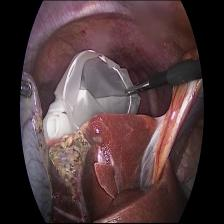Grasper: (124, 71, 152, 100), (19, 81, 34, 101)
Specimen Bag: (42, 50, 141, 153)
